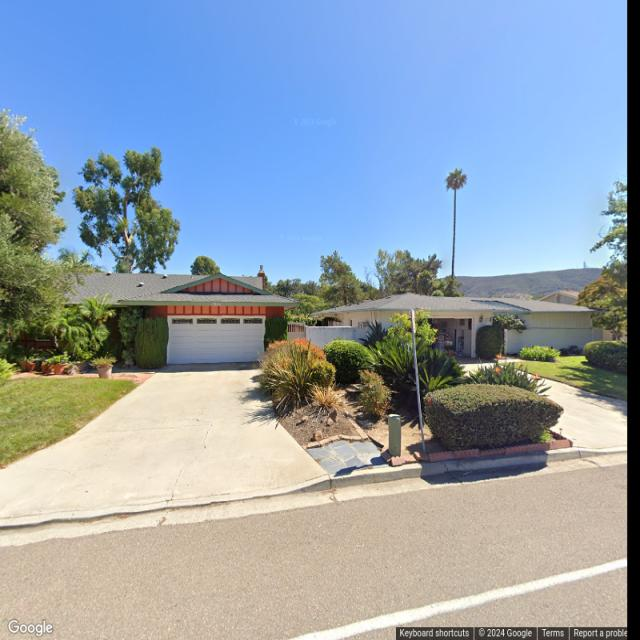House: (64, 266, 298, 366), (311, 291, 627, 357)
